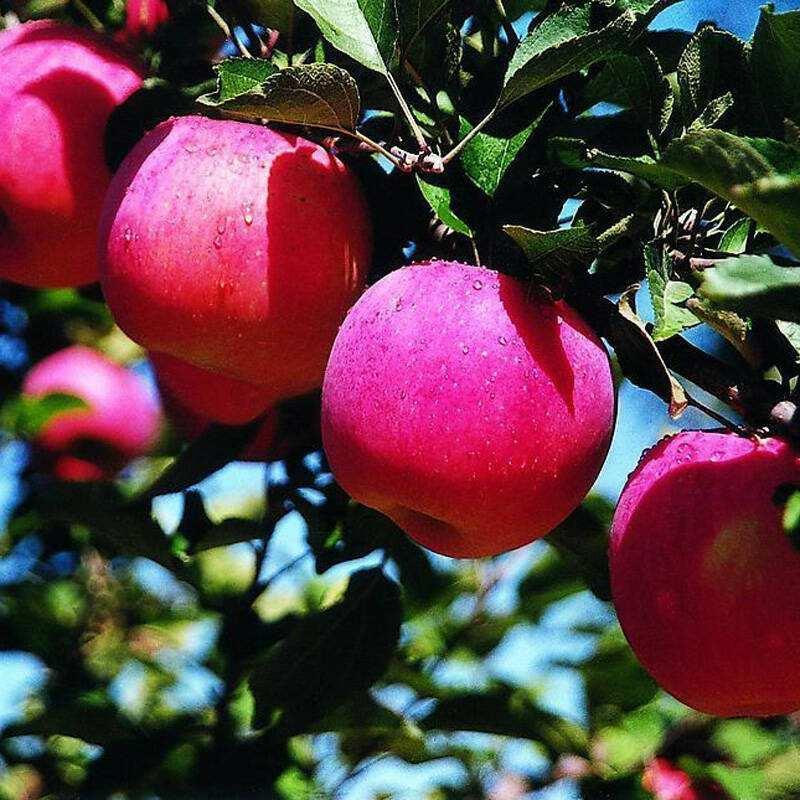apple: (321, 262, 619, 552), (105, 108, 387, 403), (605, 429, 800, 716), (1, 14, 152, 293)
